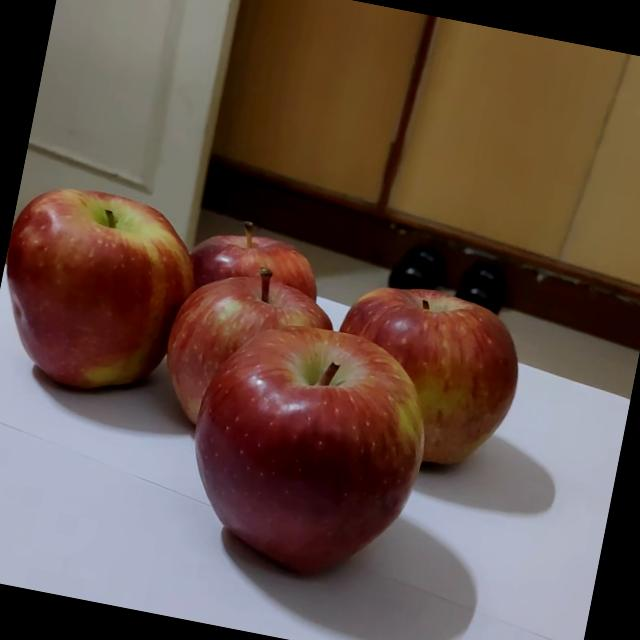apple: (158, 302, 432, 588), (332, 269, 560, 490), (15, 182, 235, 407), (166, 251, 362, 446), (198, 218, 363, 378)
